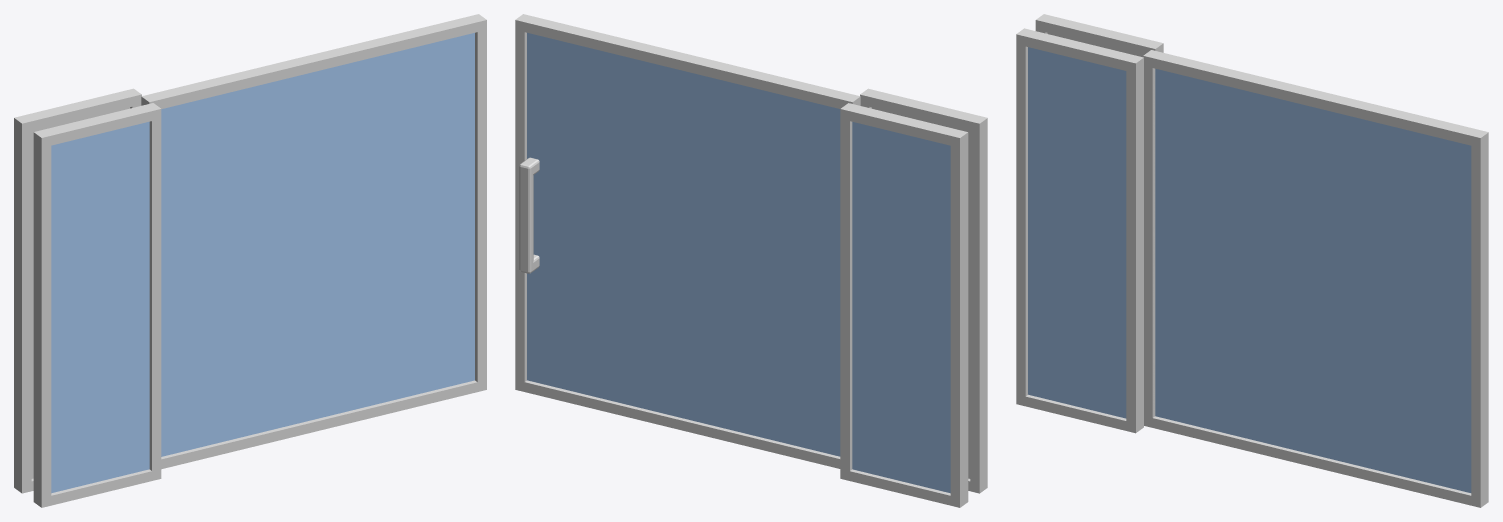
File: slideWindow.fbx
3 renders of one model, left to right at view 1: azimuth 30°, elevation 25°; view 2: azimuth 150°, elevation 25°; view 3: azimuth 330°, elevation 25°, orthographic.
Parts seen in each view (by area): view 1: slideWindowMoving, slideWindow; view 2: slideWindowMoving, slideWindow; view 3: slideWindowMoving, slideWindow.
Part boxes in pixels (x1,y1,x2,y2): slideWindowMoving: (141, 14, 486, 469); slideWindow: (14, 88, 161, 507); slideWindowMoving: (515, 14, 860, 468); slideWindow: (840, 88, 987, 507); slideWindowMoving: (1143, 50, 1488, 507); slideWindow: (1016, 14, 1163, 433).
Bounding box in the file's own units: 206 × 160 × 21.71.
Materials: 2 (1 with a texture image).
